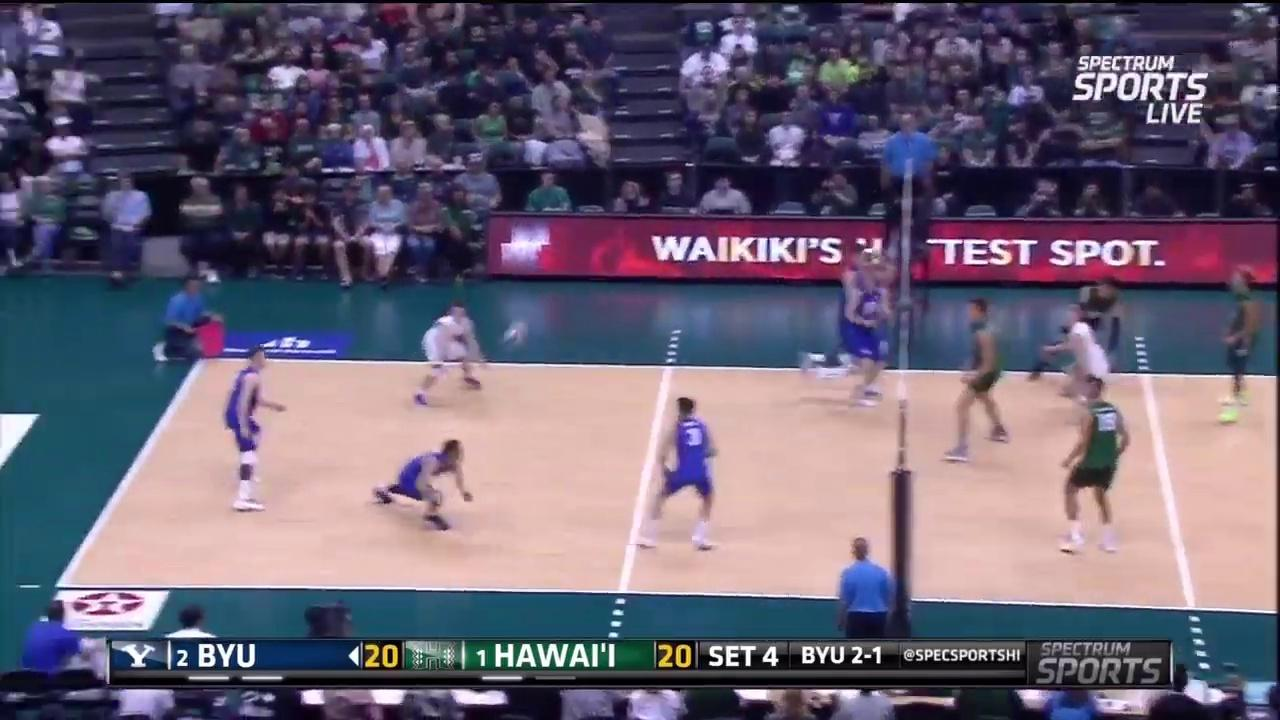player: (628, 403, 724, 549), (1055, 378, 1129, 553), (794, 267, 885, 409), (947, 290, 1013, 458), (1038, 268, 1131, 386), (225, 351, 288, 512), (375, 435, 478, 532), (827, 244, 890, 395), (1210, 261, 1264, 432), (1049, 301, 1116, 424), (418, 304, 482, 404)
refree: (833, 533, 908, 719), (879, 109, 938, 249), (145, 266, 228, 365)
